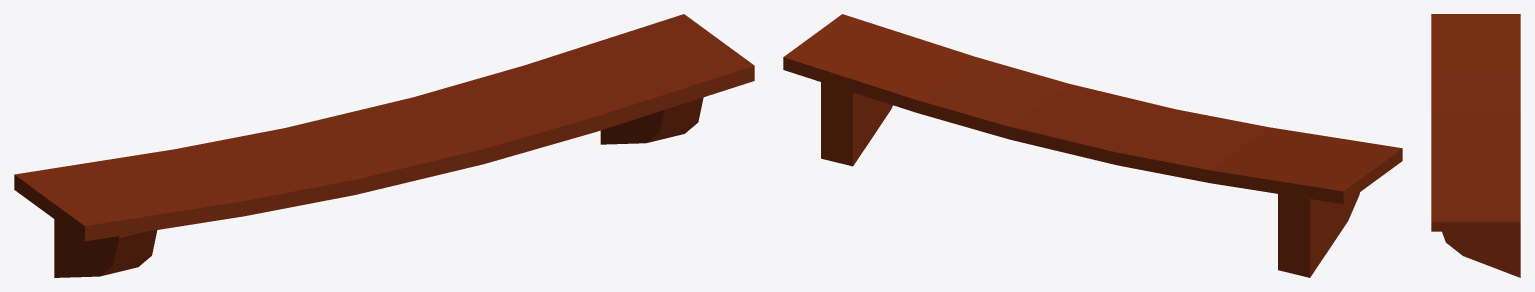
The model's file is Poor_Shelw_1.fbx.
3 renders of one model, left to right at view 1: azimuth 30°, elevation 25°; view 2: azimuth 150°, elevation 25°; view 3: azimuth 270°, elevation 25°, orthographic. The views are drawn at different scales.
Visible parts, largest first — view 1: Poor_Shelw_1; view 2: Poor_Shelw_1; view 3: Poor_Shelw_1.
Part boxes in pixels (x1=…): Poor_Shelw_1: x1=14, y1=14, x2=754, y2=277; Poor_Shelw_1: x1=783, y1=14, x2=1402, y2=277; Poor_Shelw_1: x1=1431, y1=14, x2=1520, y2=277.
Size of the model in its own units: 229 by 37.02 by 41.8.
